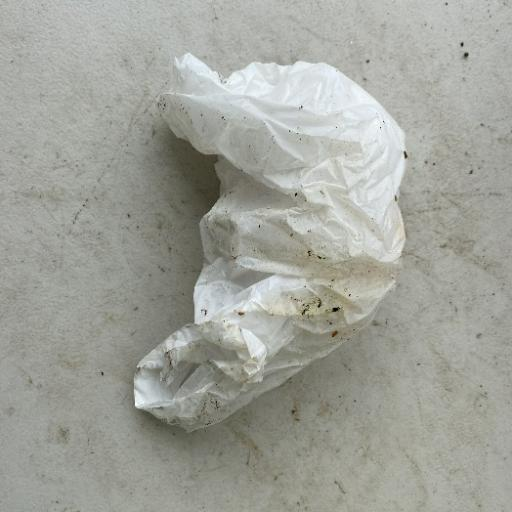Plastic: (131, 52, 409, 433)
